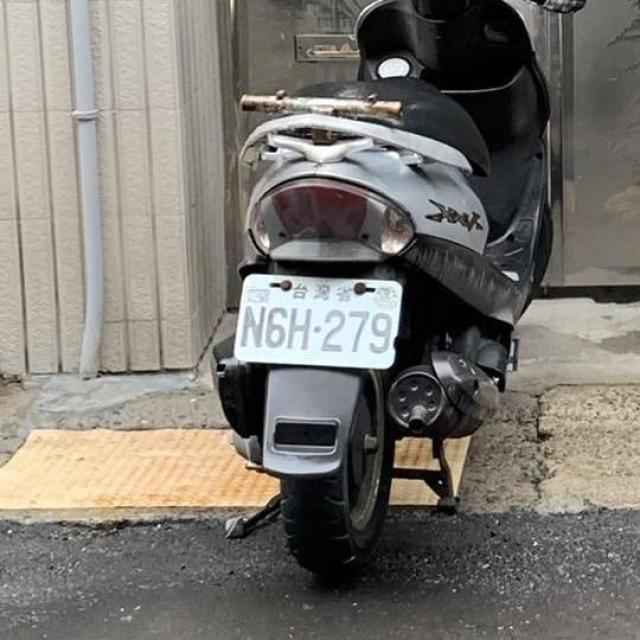W: (228, 260, 406, 378)
